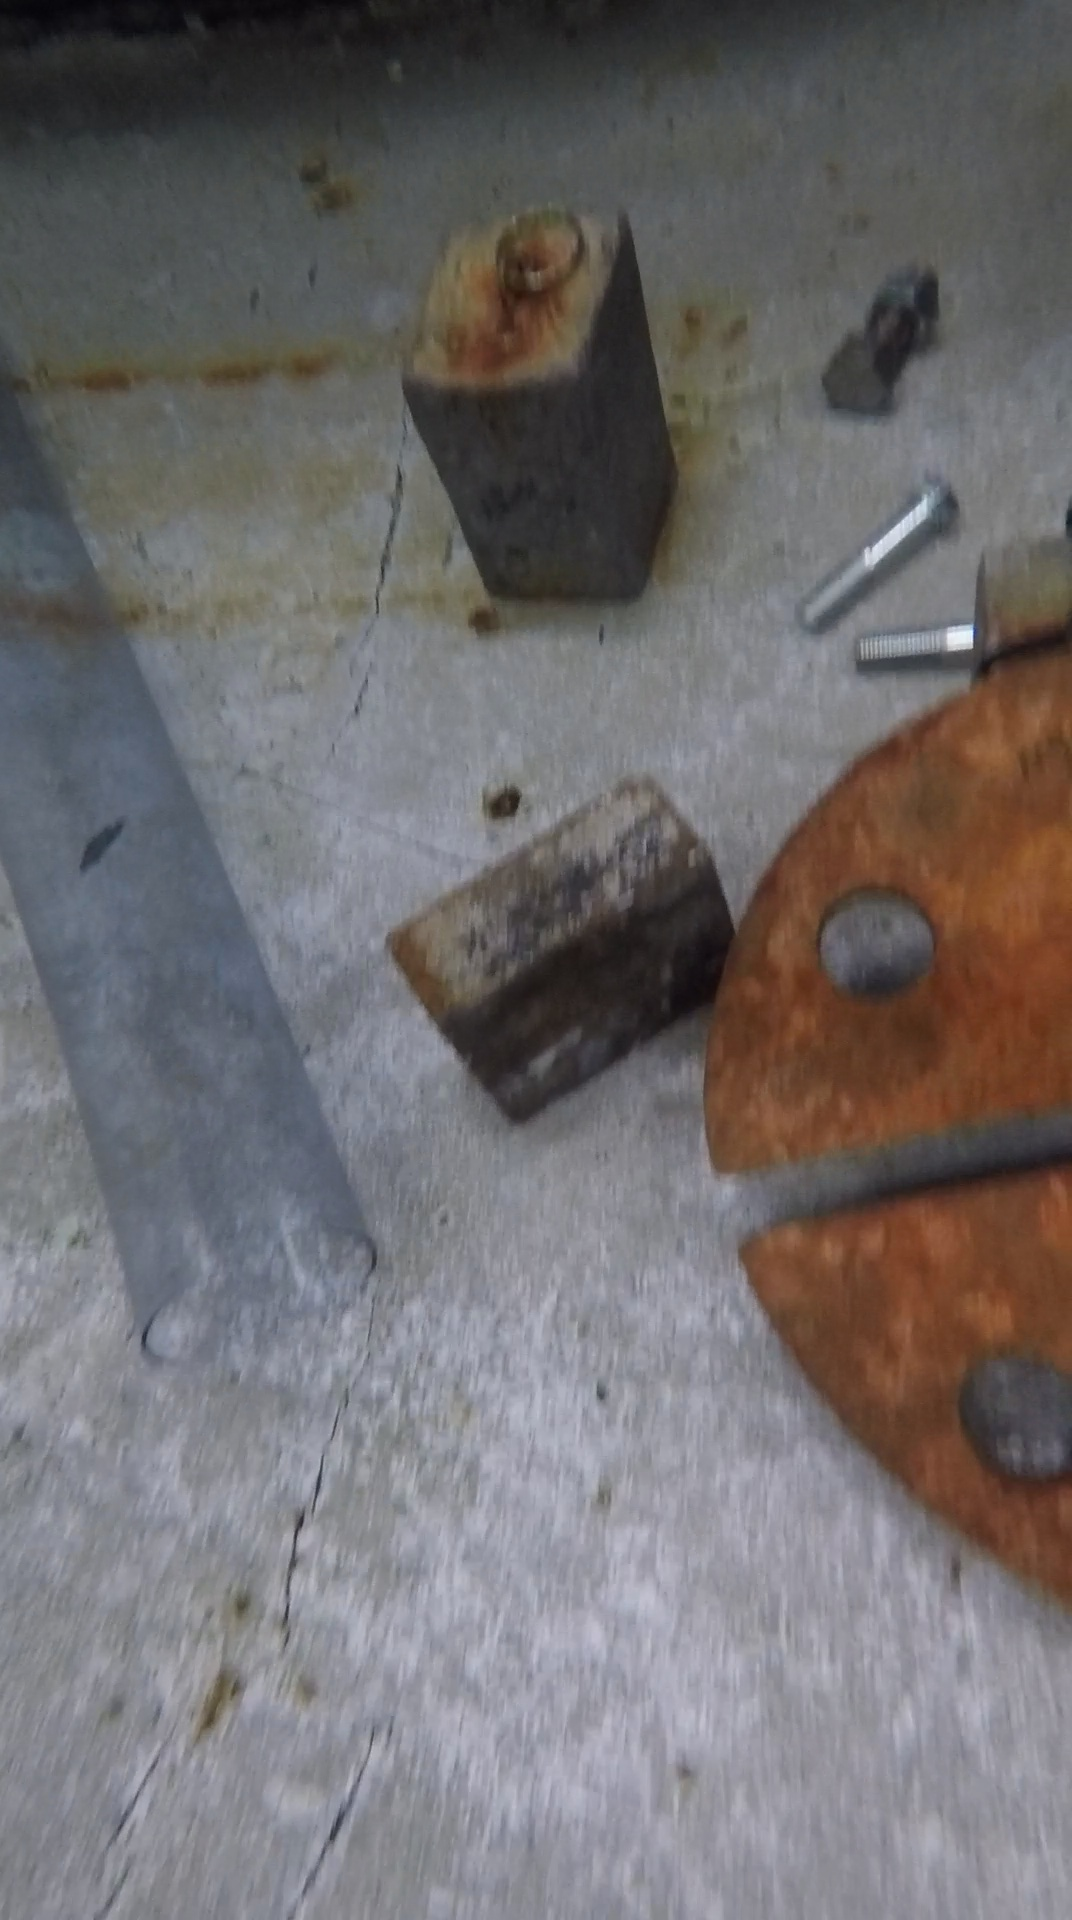bolt: (796, 469, 957, 629), (820, 261, 934, 417), (854, 621, 977, 667)
flange: (696, 638, 1072, 1607)
led_block: (382, 761, 736, 1124), (394, 195, 683, 603), (970, 516, 1072, 667)
nut: (869, 266, 940, 349)
pipe: (1, 338, 381, 1367)
